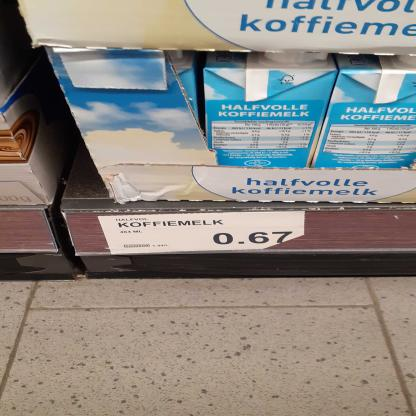prtg: (98, 212, 307, 256)
